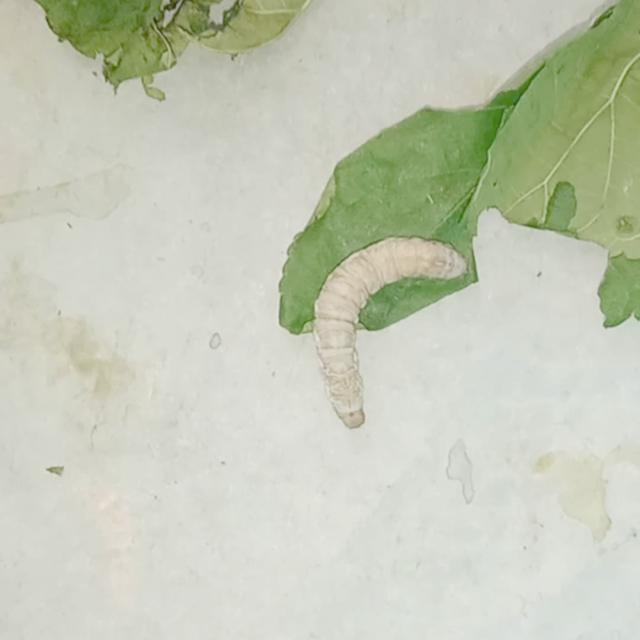Grasserie: (297, 222, 488, 432)
